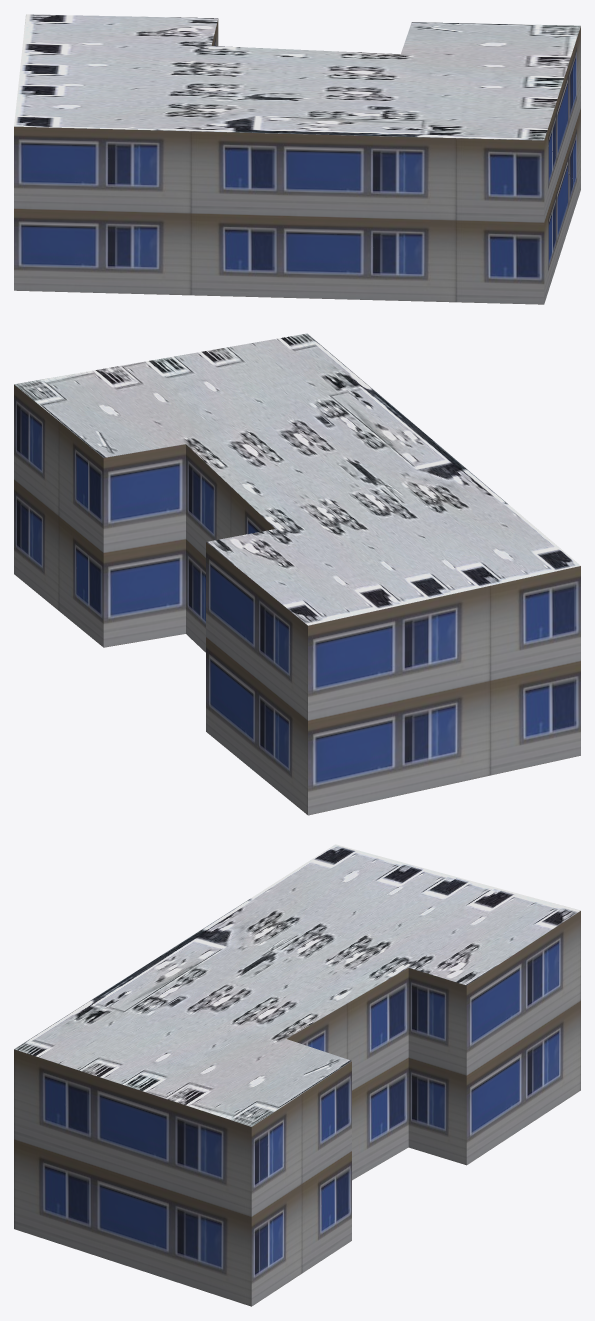
The model's file is ResTex__3767.fbx.
The picture shows the model from 3 angles, top to bottom: view 1: azimuth 30°, elevation 25°; view 2: azimuth 150°, elevation 25°; view 3: azimuth 270°, elevation 25°; orthographic projection. The views are drawn at different scales.
Visible parts, largest first — view 1: CityEngineMaterial_23_m, CityEngineMaterial_4_m; view 2: CityEngineMaterial_23_m, CityEngineMaterial_4_m; view 3: CityEngineMaterial_23_m, CityEngineMaterial_4_m.
Part boxes in pixels (x1,y1,x2,y2): CityEngineMaterial_23_m: (14, 19, 580, 304); CityEngineMaterial_4_m: (14, 14, 580, 140); CityEngineMaterial_23_m: (14, 384, 580, 815); CityEngineMaterial_4_m: (14, 333, 580, 625); CityEngineMaterial_23_m: (14, 911, 580, 1306); CityEngineMaterial_4_m: (14, 844, 580, 1126).
Bounding box in the file's own units: 20.22 × 6 × 17.14.
Materials: 2 (2 with a texture image).
